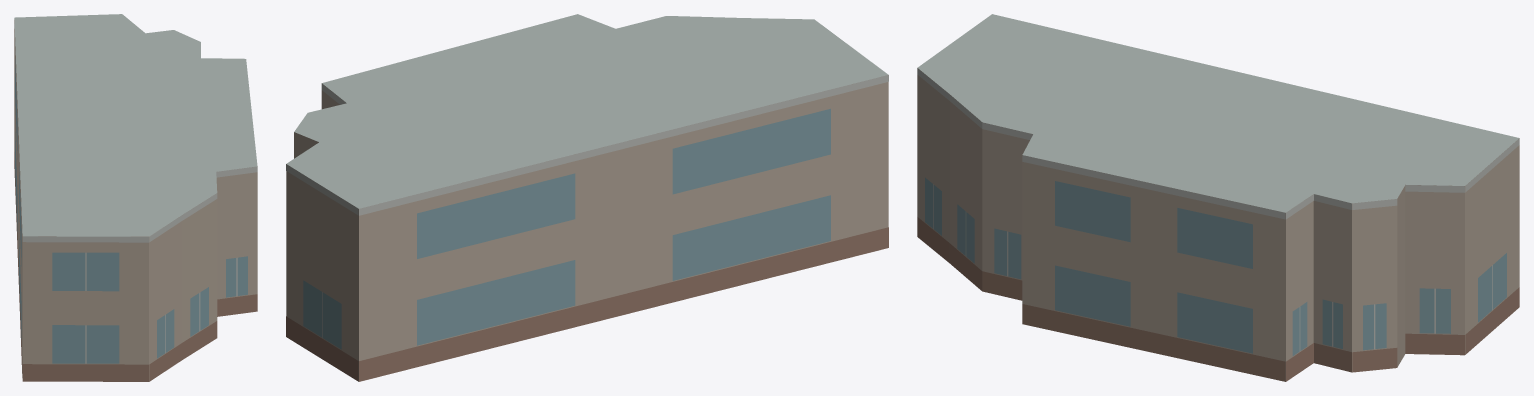
Rendered from survey-upis-32492877.glb.
3 views of the same model, side by side, from view 1: azimuth 30°, elevation 25°; view 2: azimuth 150°, elevation 25°; view 3: azimuth 270°, elevation 25° (orthographic). The views are drawn at different scales.
Parts seen in each view (by area): view 1: survey-upis-32492877.tmp; view 2: survey-upis-32492877.tmp; view 3: survey-upis-32492877.tmp.
Part boxes in pixels (bbox=[...]): survey-upis-32492877.tmp: bbox=[14, 14, 257, 381]; survey-upis-32492877.tmp: bbox=[286, 14, 888, 381]; survey-upis-32492877.tmp: bbox=[917, 14, 1519, 381].
Bounding box in the file's own units: 15.39 × 6.1 × 19.7.
